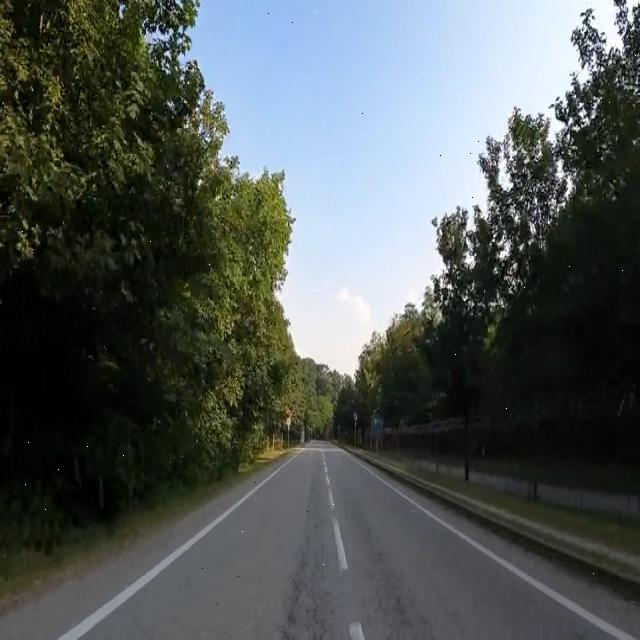lane: (356, 459, 635, 639), (59, 450, 300, 639), (333, 518, 348, 571)
road: (0, 444, 640, 640)
